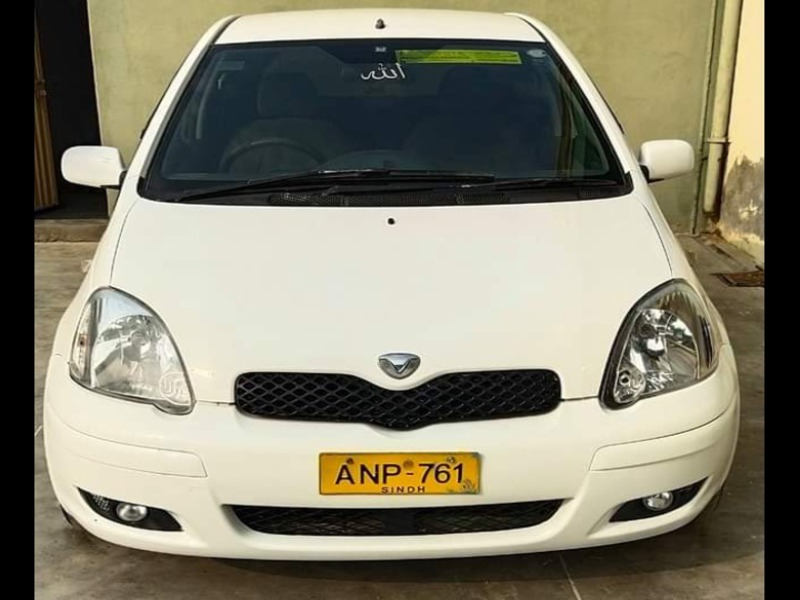License Plate: (316, 450, 485, 500)
